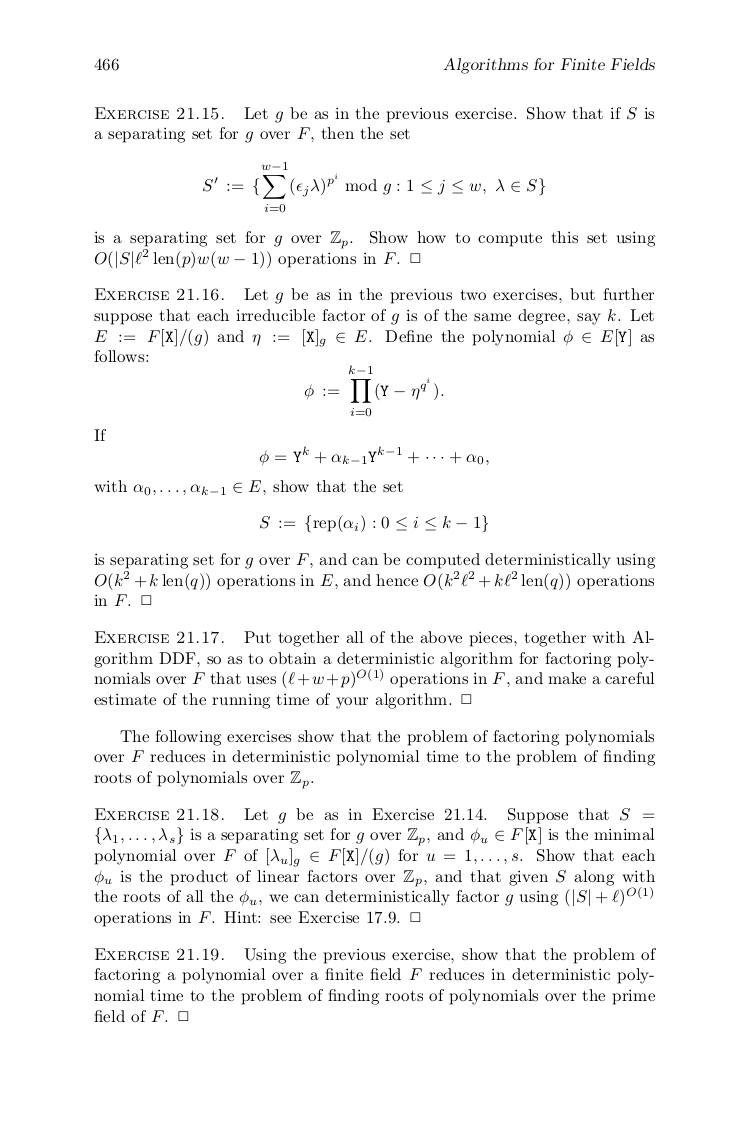formula: (203, 162, 544, 212), (304, 365, 443, 416), (259, 445, 488, 466), (260, 514, 487, 533)
